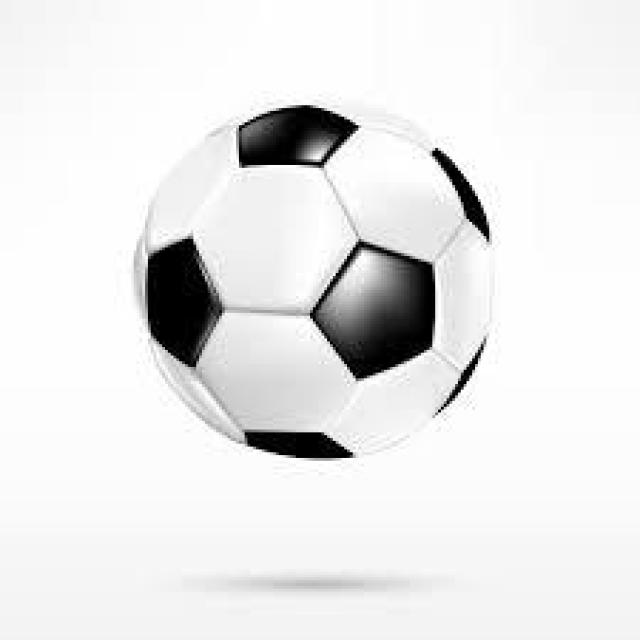Soccer Ball: (122, 105, 490, 464)
